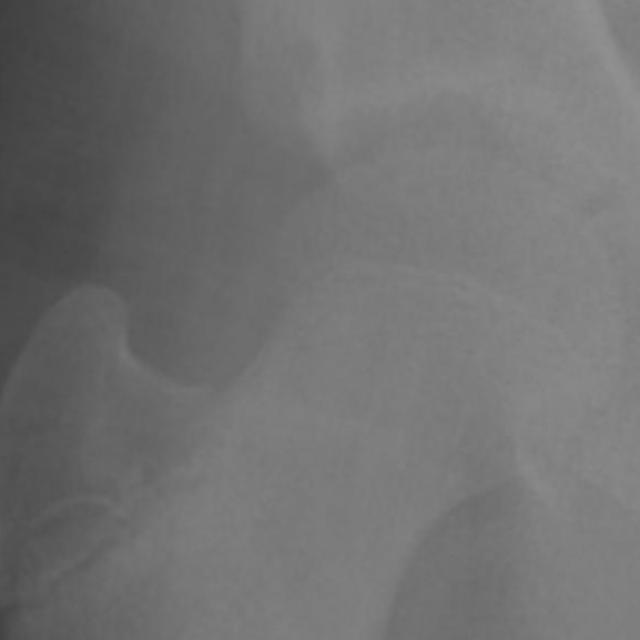Fitted_femural_head: (382, 147, 432, 382)
